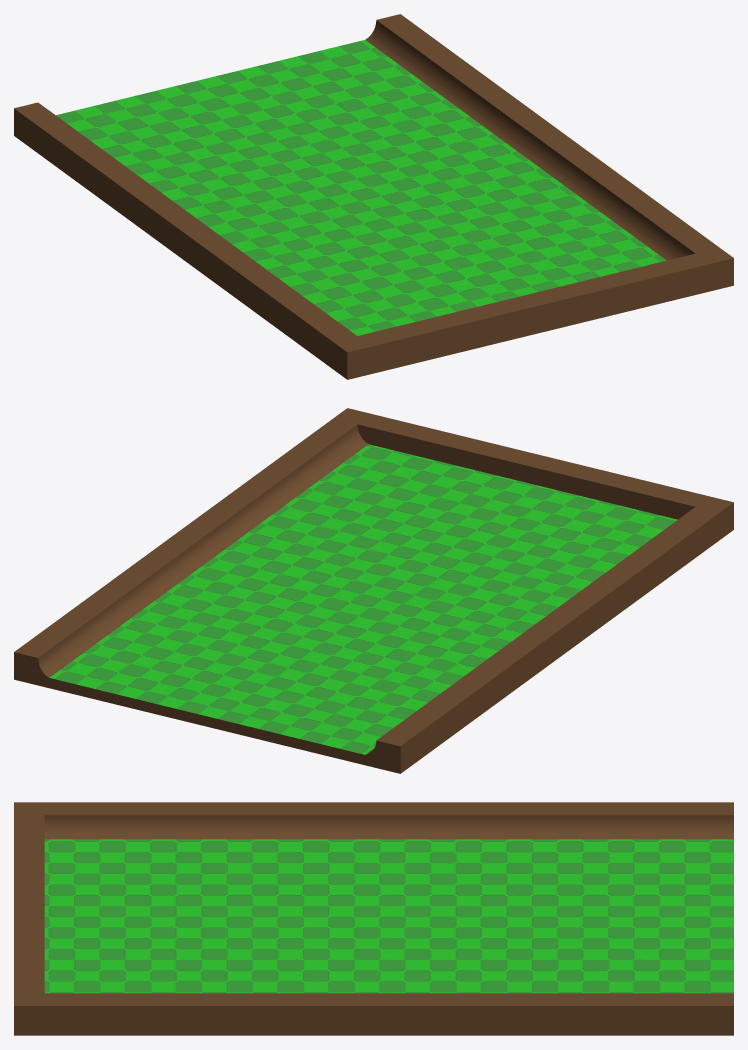
File: startingplatform.fbx
3 renders of one model, top to bottom at view 1: azimuth 30°, elevation 25°; view 2: azimuth 150°, elevation 25°; view 3: azimuth 270°, elevation 25°, orthographic. The views are drawn at different scales.
Parts seen in each view (by area): view 1: 01_Starting Platform; view 2: 01_Starting Platform; view 3: 01_Starting Platform.
Boxes of the visible parts, x1,y1,x2,y2 form: 01_Starting Platform: [14, 14, 733, 379]; 01_Starting Platform: [14, 408, 733, 773]; 01_Starting Platform: [14, 802, 733, 1035].
Bounding box in the file's own units: 4425 × 301 × 6613.
